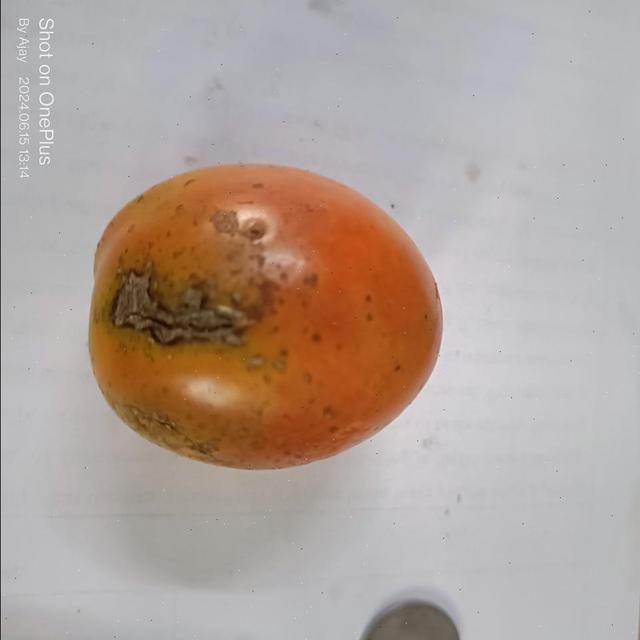Bacterial Spot Fruit: (64, 174, 184, 230)
